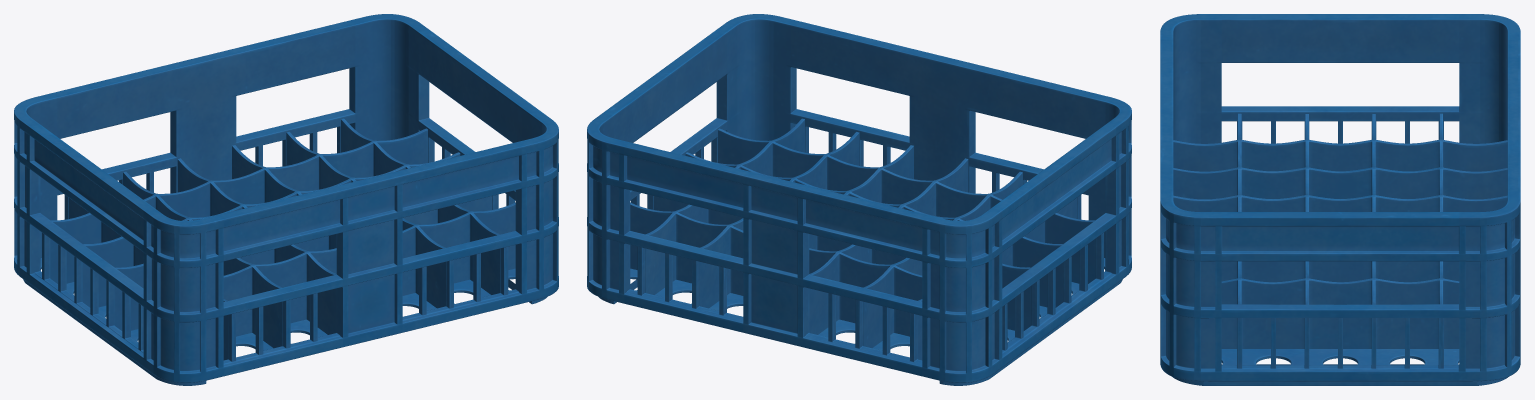
Rendered from blue_crate.glb.
The picture shows the model from 3 angles, left to right: view 1: azimuth 30°, elevation 25°; view 2: azimuth 150°, elevation 25°; view 3: azimuth 270°, elevation 25°; orthographic projection. The views are drawn at different scales.
Parts seen in each view (by area): view 1: CrateA; view 2: CrateA; view 3: CrateA.
Part boxes in pixels (bbox=[...]): CrateA: bbox=[14, 14, 558, 385]; CrateA: bbox=[587, 14, 1131, 385]; CrateA: bbox=[1160, 14, 1520, 385].
Bounding box in the file's own units: 0.5051 × 0.1975 × 0.378.
Materials: 1 (1 with a texture image).
